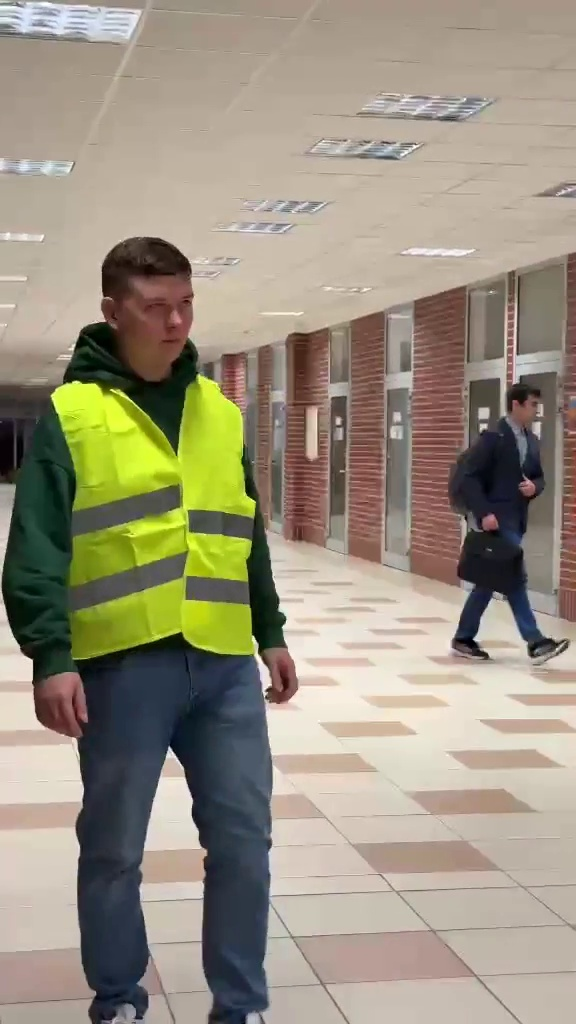no vest: (450, 377, 573, 669)
vest: (10, 234, 318, 1006)
